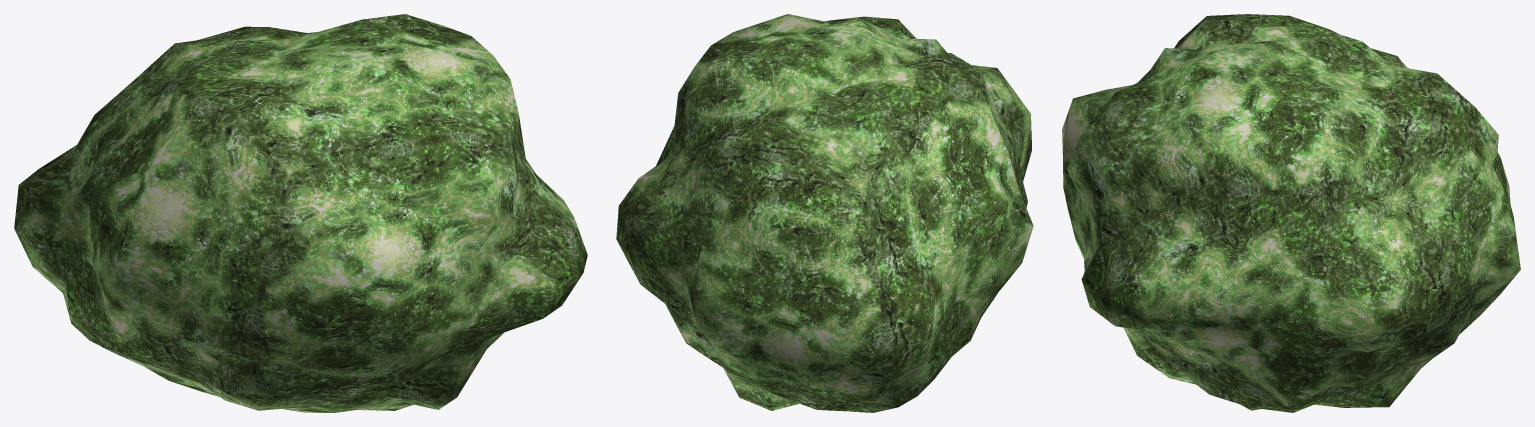
The model's file is asteroid_acid_large_s01_l0.fbx.
3 views of the same model, side by side, from view 1: azimuth 30°, elevation 25°; view 2: azimuth 150°, elevation 25°; view 3: azimuth 270°, elevation 25° (orthographic). The views are drawn at different scales.
Parts seen in each view (by area): view 1: mesh_node; view 2: mesh_node; view 3: mesh_node.
Part boxes in pixels (box(x1,y1,x2,y2)): mesh_node: box(14, 14, 587, 412); mesh_node: box(616, 14, 1033, 412); mesh_node: box(1062, 14, 1520, 412).
Bounding box in the file's own units: 107 × 91.36 × 113.
1 material, 1 textured.
